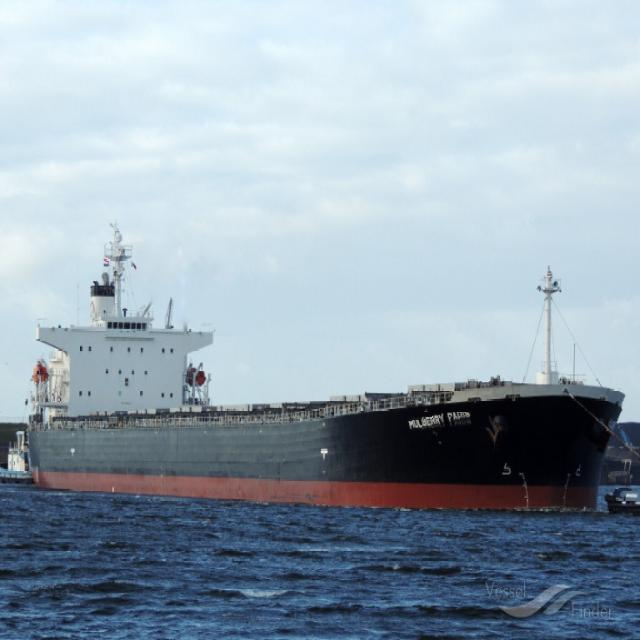OCR: (408, 412, 478, 430)
